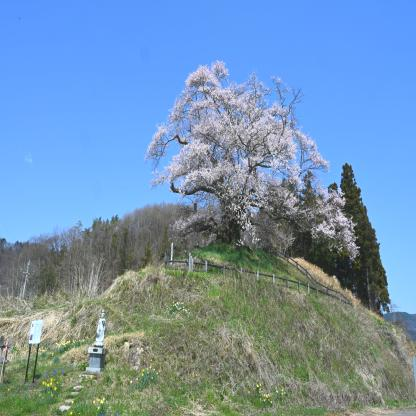EdohiganSakura: (143, 55, 361, 280)
